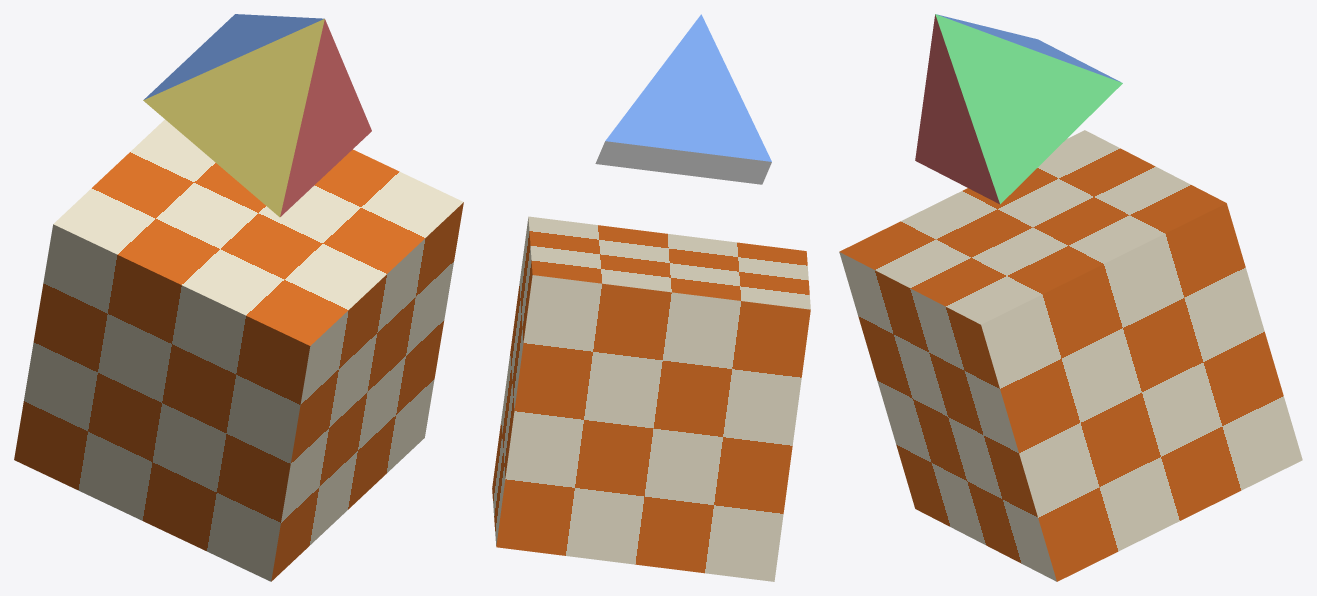
The picture shows the model from 3 angles, left to right: view 1: azimuth 30°, elevation 25°; view 2: azimuth 150°, elevation 25°; view 3: azimuth 270°, elevation 25°; orthographic projection. The views are drawn at different scales.
Visible parts, largest first — view 1: base, top; view 2: base, top; view 3: base, top.
Boxes of the visible parts, x1=… form: base: x1=14, y1=119, x2=463, y2=581; top: x1=143, y1=14, x2=371, y2=217; base: x1=492, y1=216, x2=810, y2=581; top: x1=595, y1=14, x2=771, y2=184; base: x1=839, y1=130, x2=1302, y2=581; top: x1=915, y1=14, x2=1122, y2=204.
Bounding box in the file's own units: 1.37 × 1.97 × 1.58.
2 materials, 1 textured.
